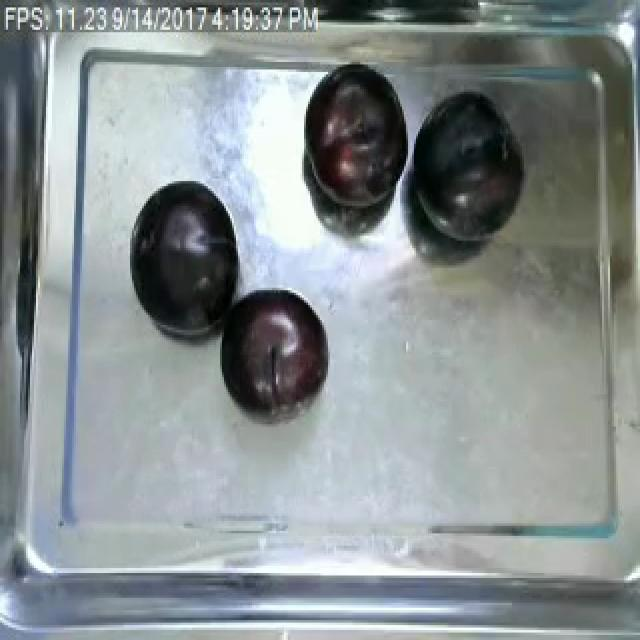Fruit: (402, 82, 526, 250), (126, 176, 246, 345), (300, 64, 410, 218), (216, 283, 334, 422)
